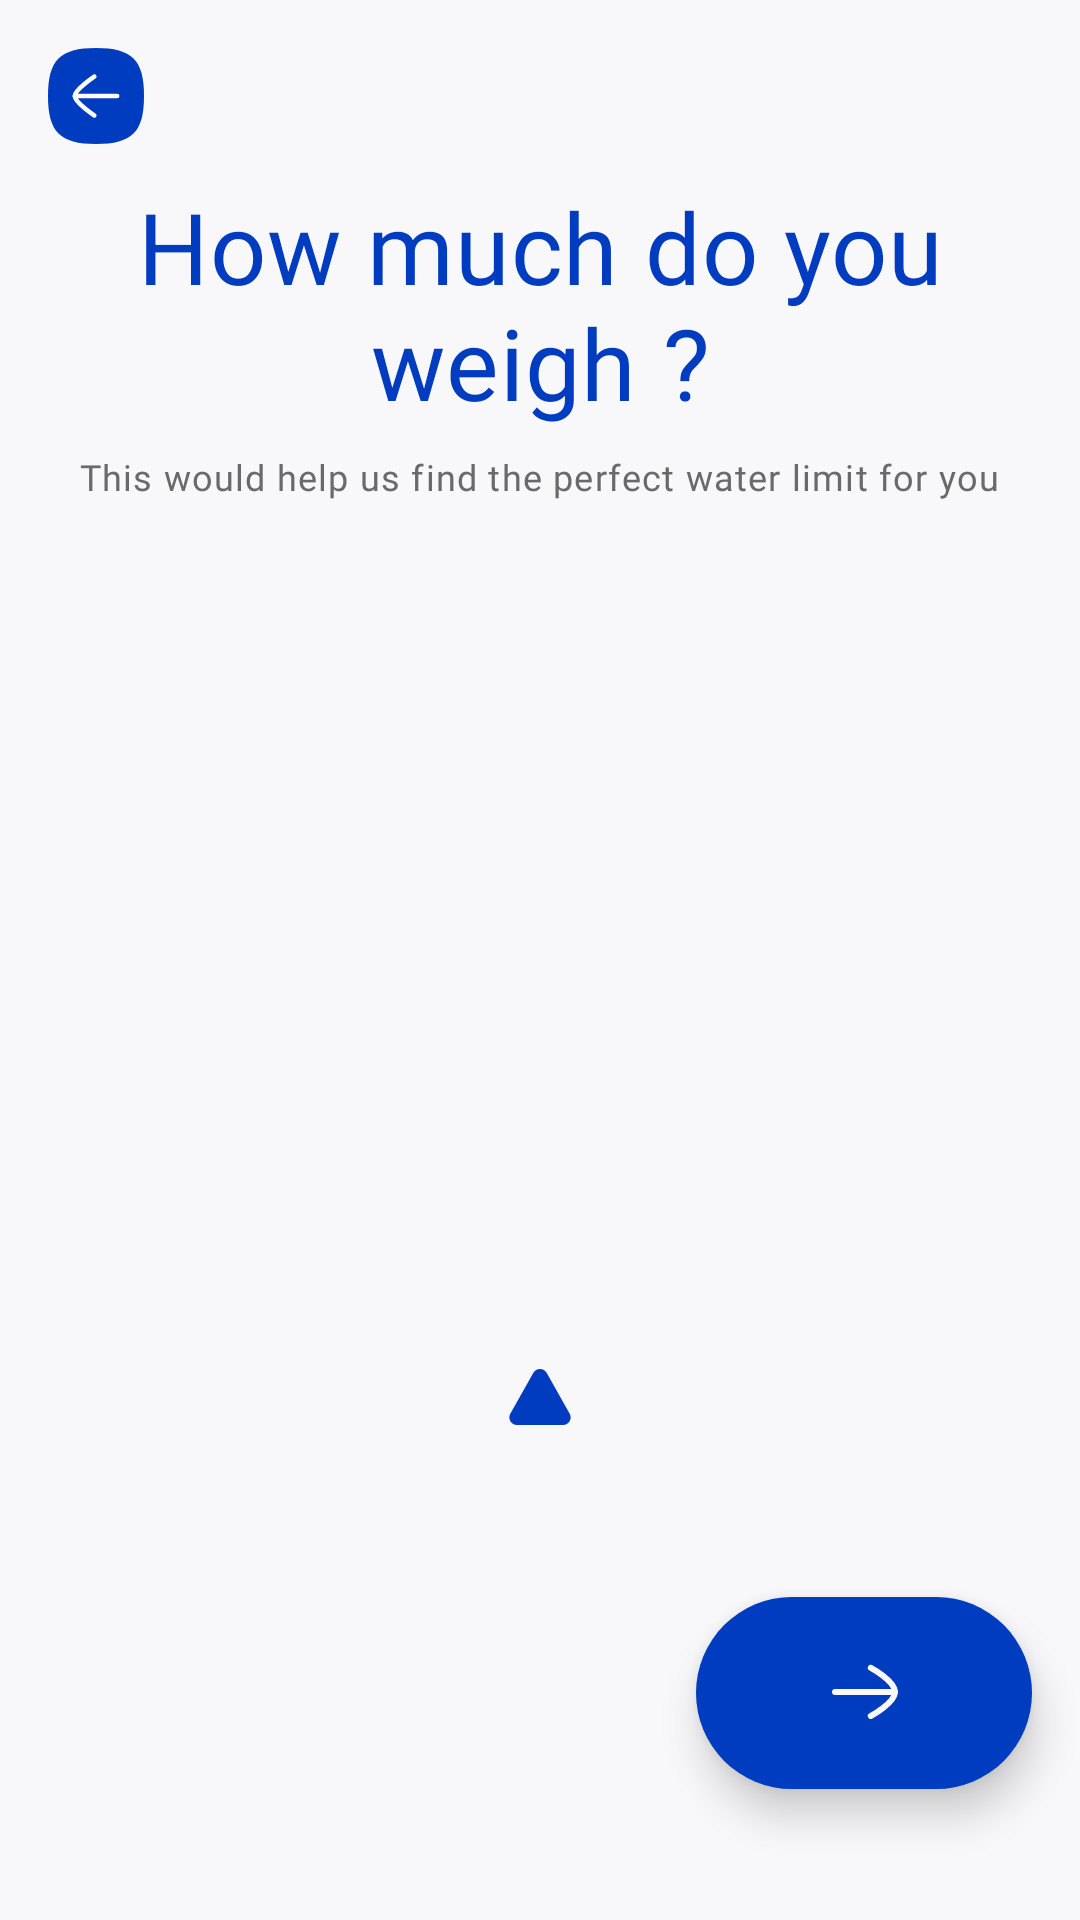

Where icons sit on this 1080px×1920px app screen, as (x1, y1, x2, y2):
back: (48, 48, 144, 144)
next arrow: (696, 1597, 1032, 1789)
